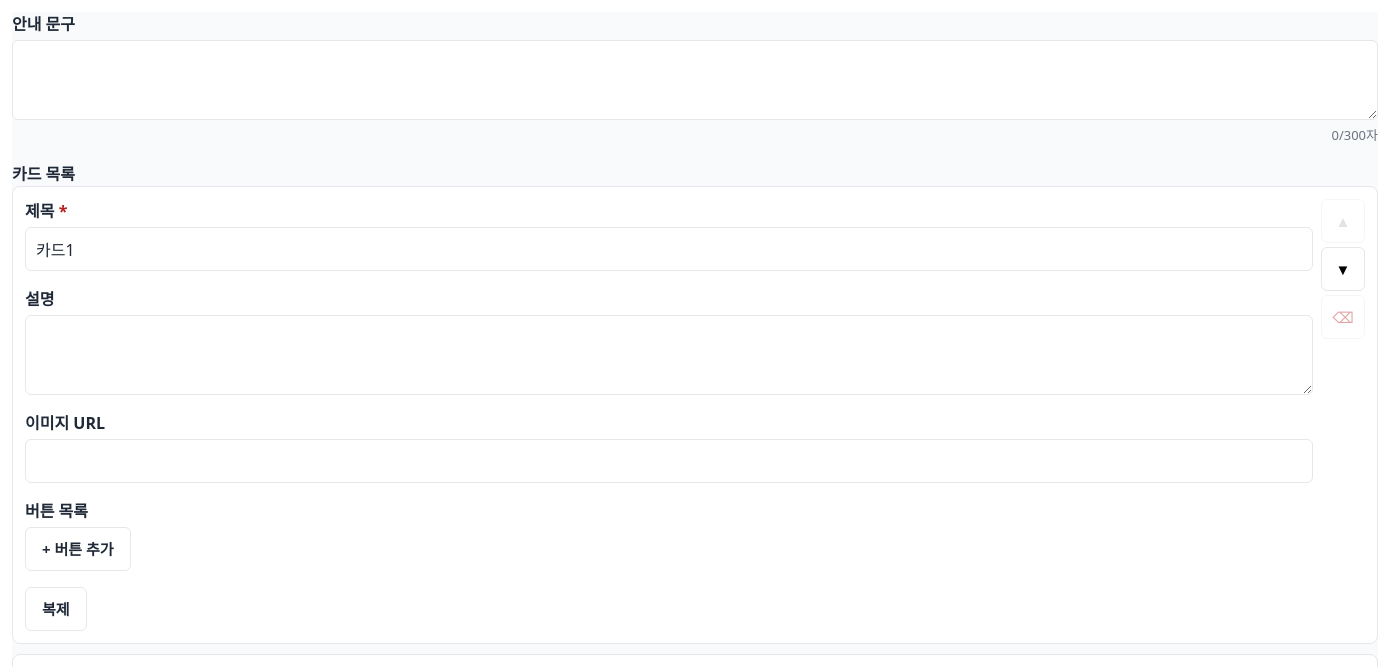
Test case: CarouselOutputEditor — 이미지 URL 인라인 검증(§3.1) › http 주소는 거부된다(https 전용)
Type "http://example.com/a.png" into the field labelled "이미지 URL" at (669, 460), box [25,438,1313,482]
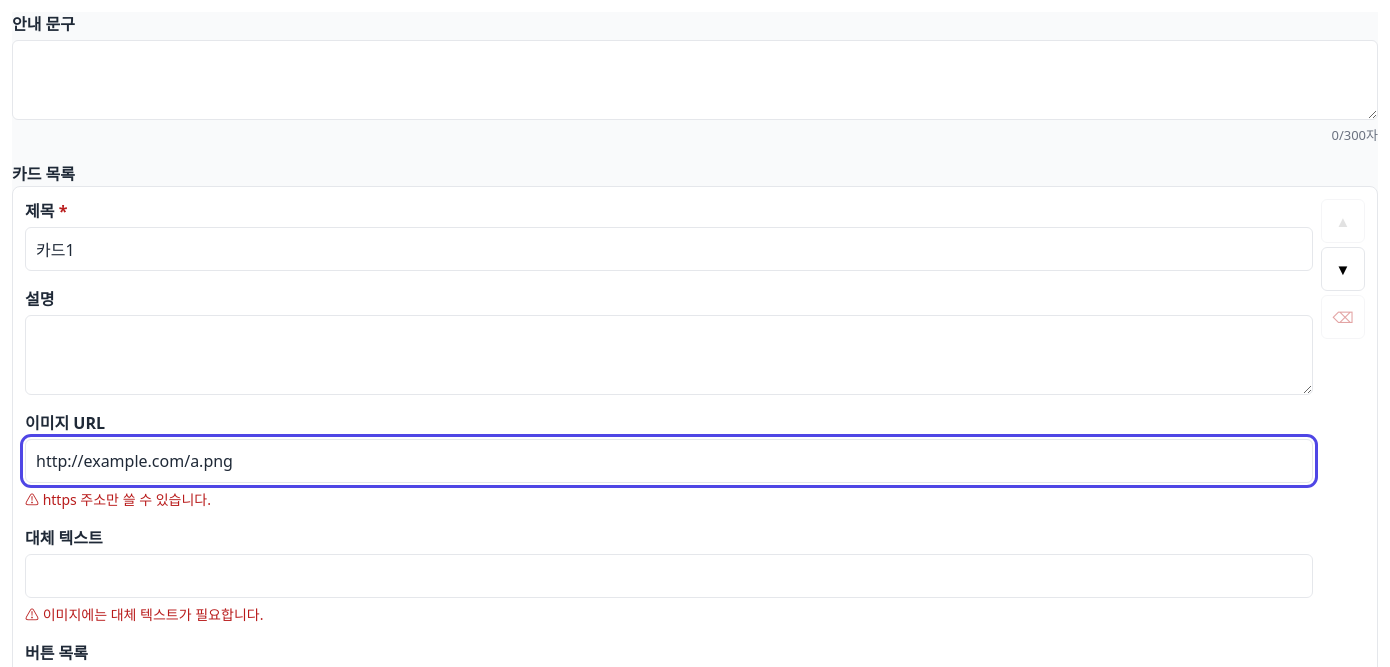
Check: the text "https 주소만 쓸 수 있습니다." is shown, box [43,490,211,508]
